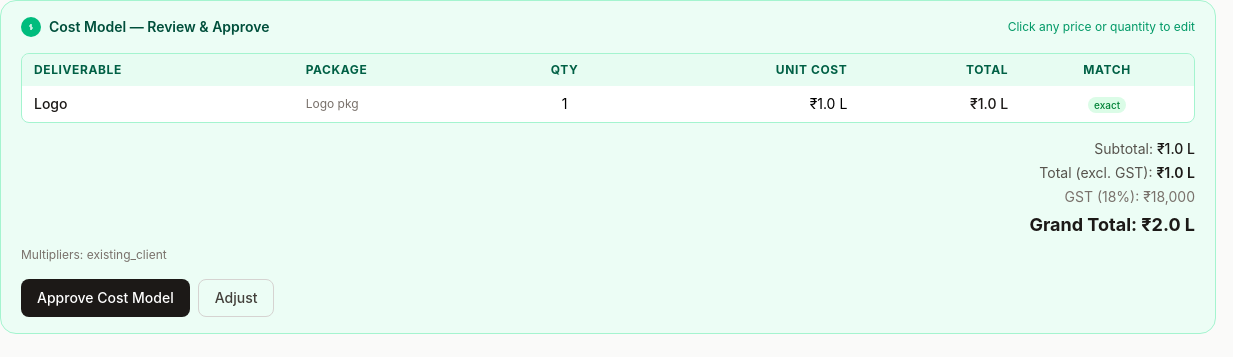
CostModelCard › patches a quantity edit and re-renders with the server response
Click the text "1" at x=565, y=104, box [502,86,627,122]
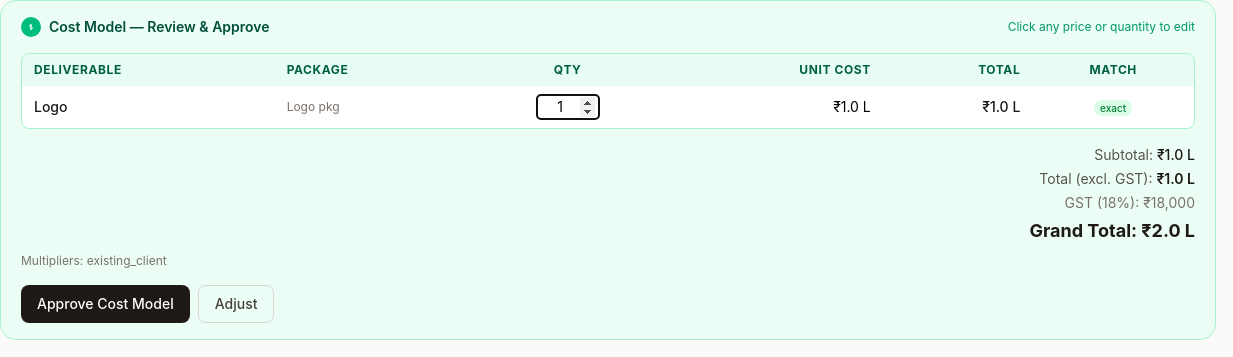
Replace the text in the number field with "3" at x=568, y=107, box [536,94,600,120]
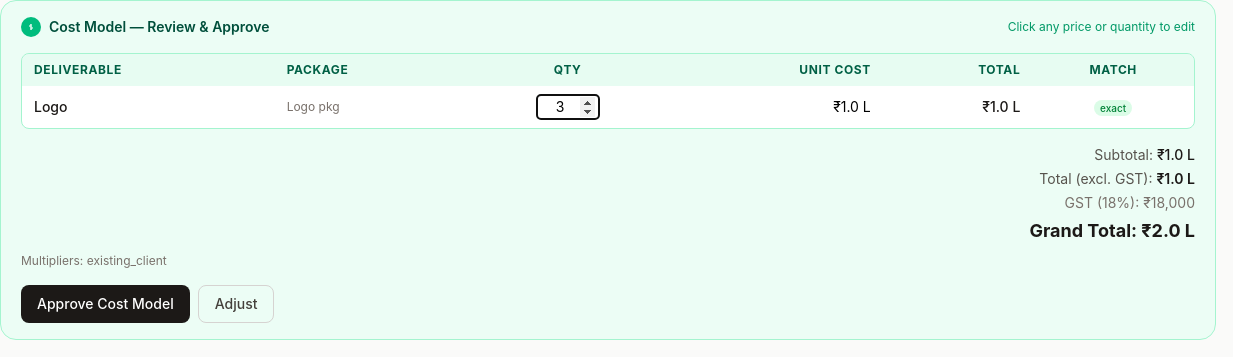
Press Enter in the number field, box [536,94,600,120]
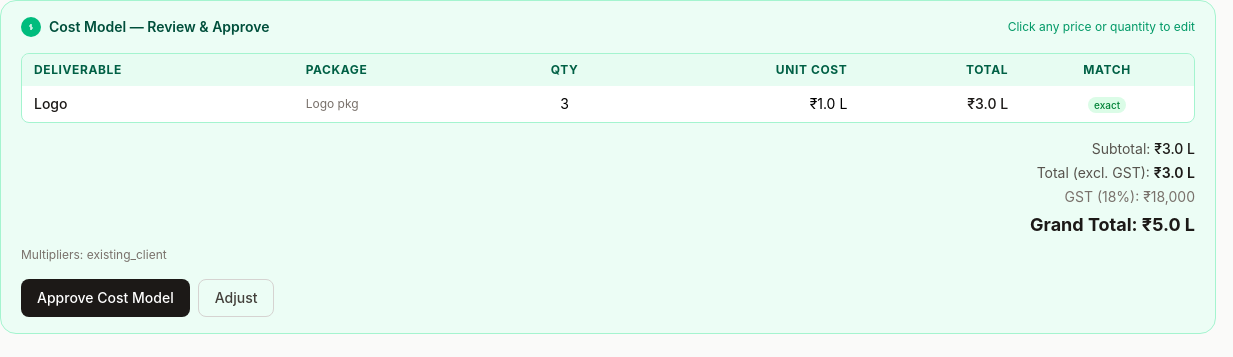
Check: the text "Grand Total: ₹5.0 L" is shown, box [1030,214,1195,235]
